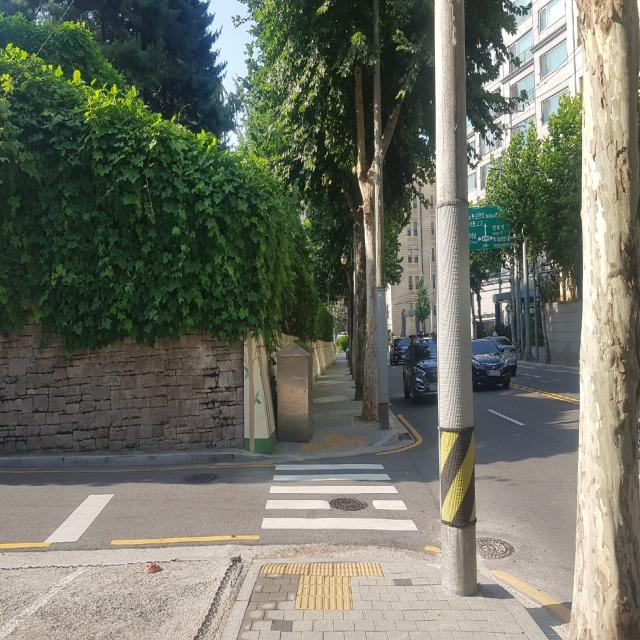횡단보도: (260, 461, 418, 531)
